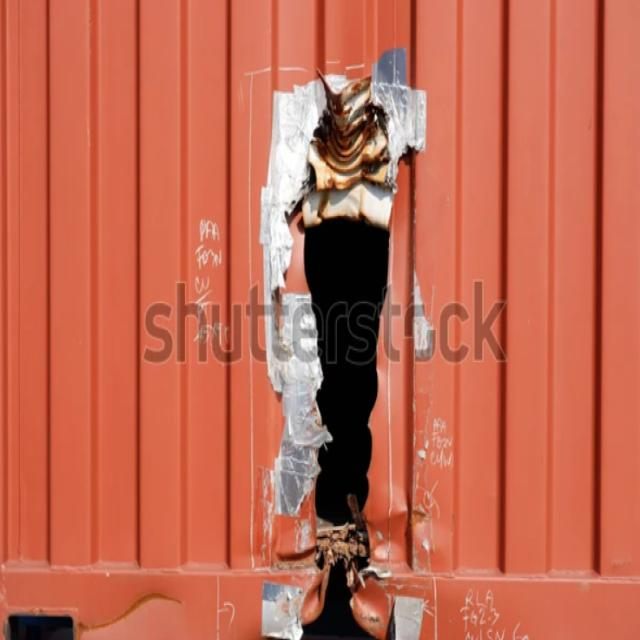hole: (300, 204, 400, 536), (292, 546, 393, 640)
